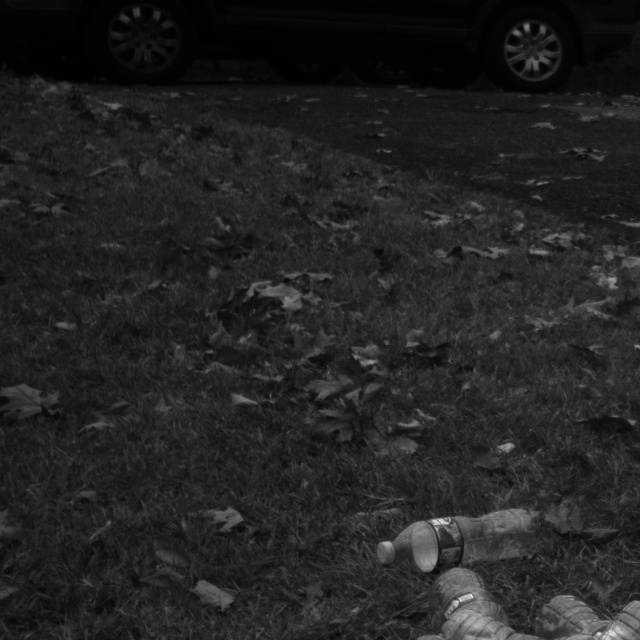bottle: (357, 490, 565, 600), (426, 547, 536, 640)
